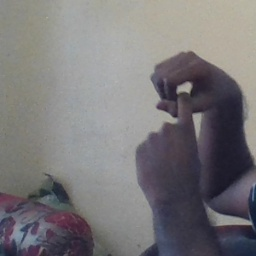Q: (134, 50, 221, 180)
